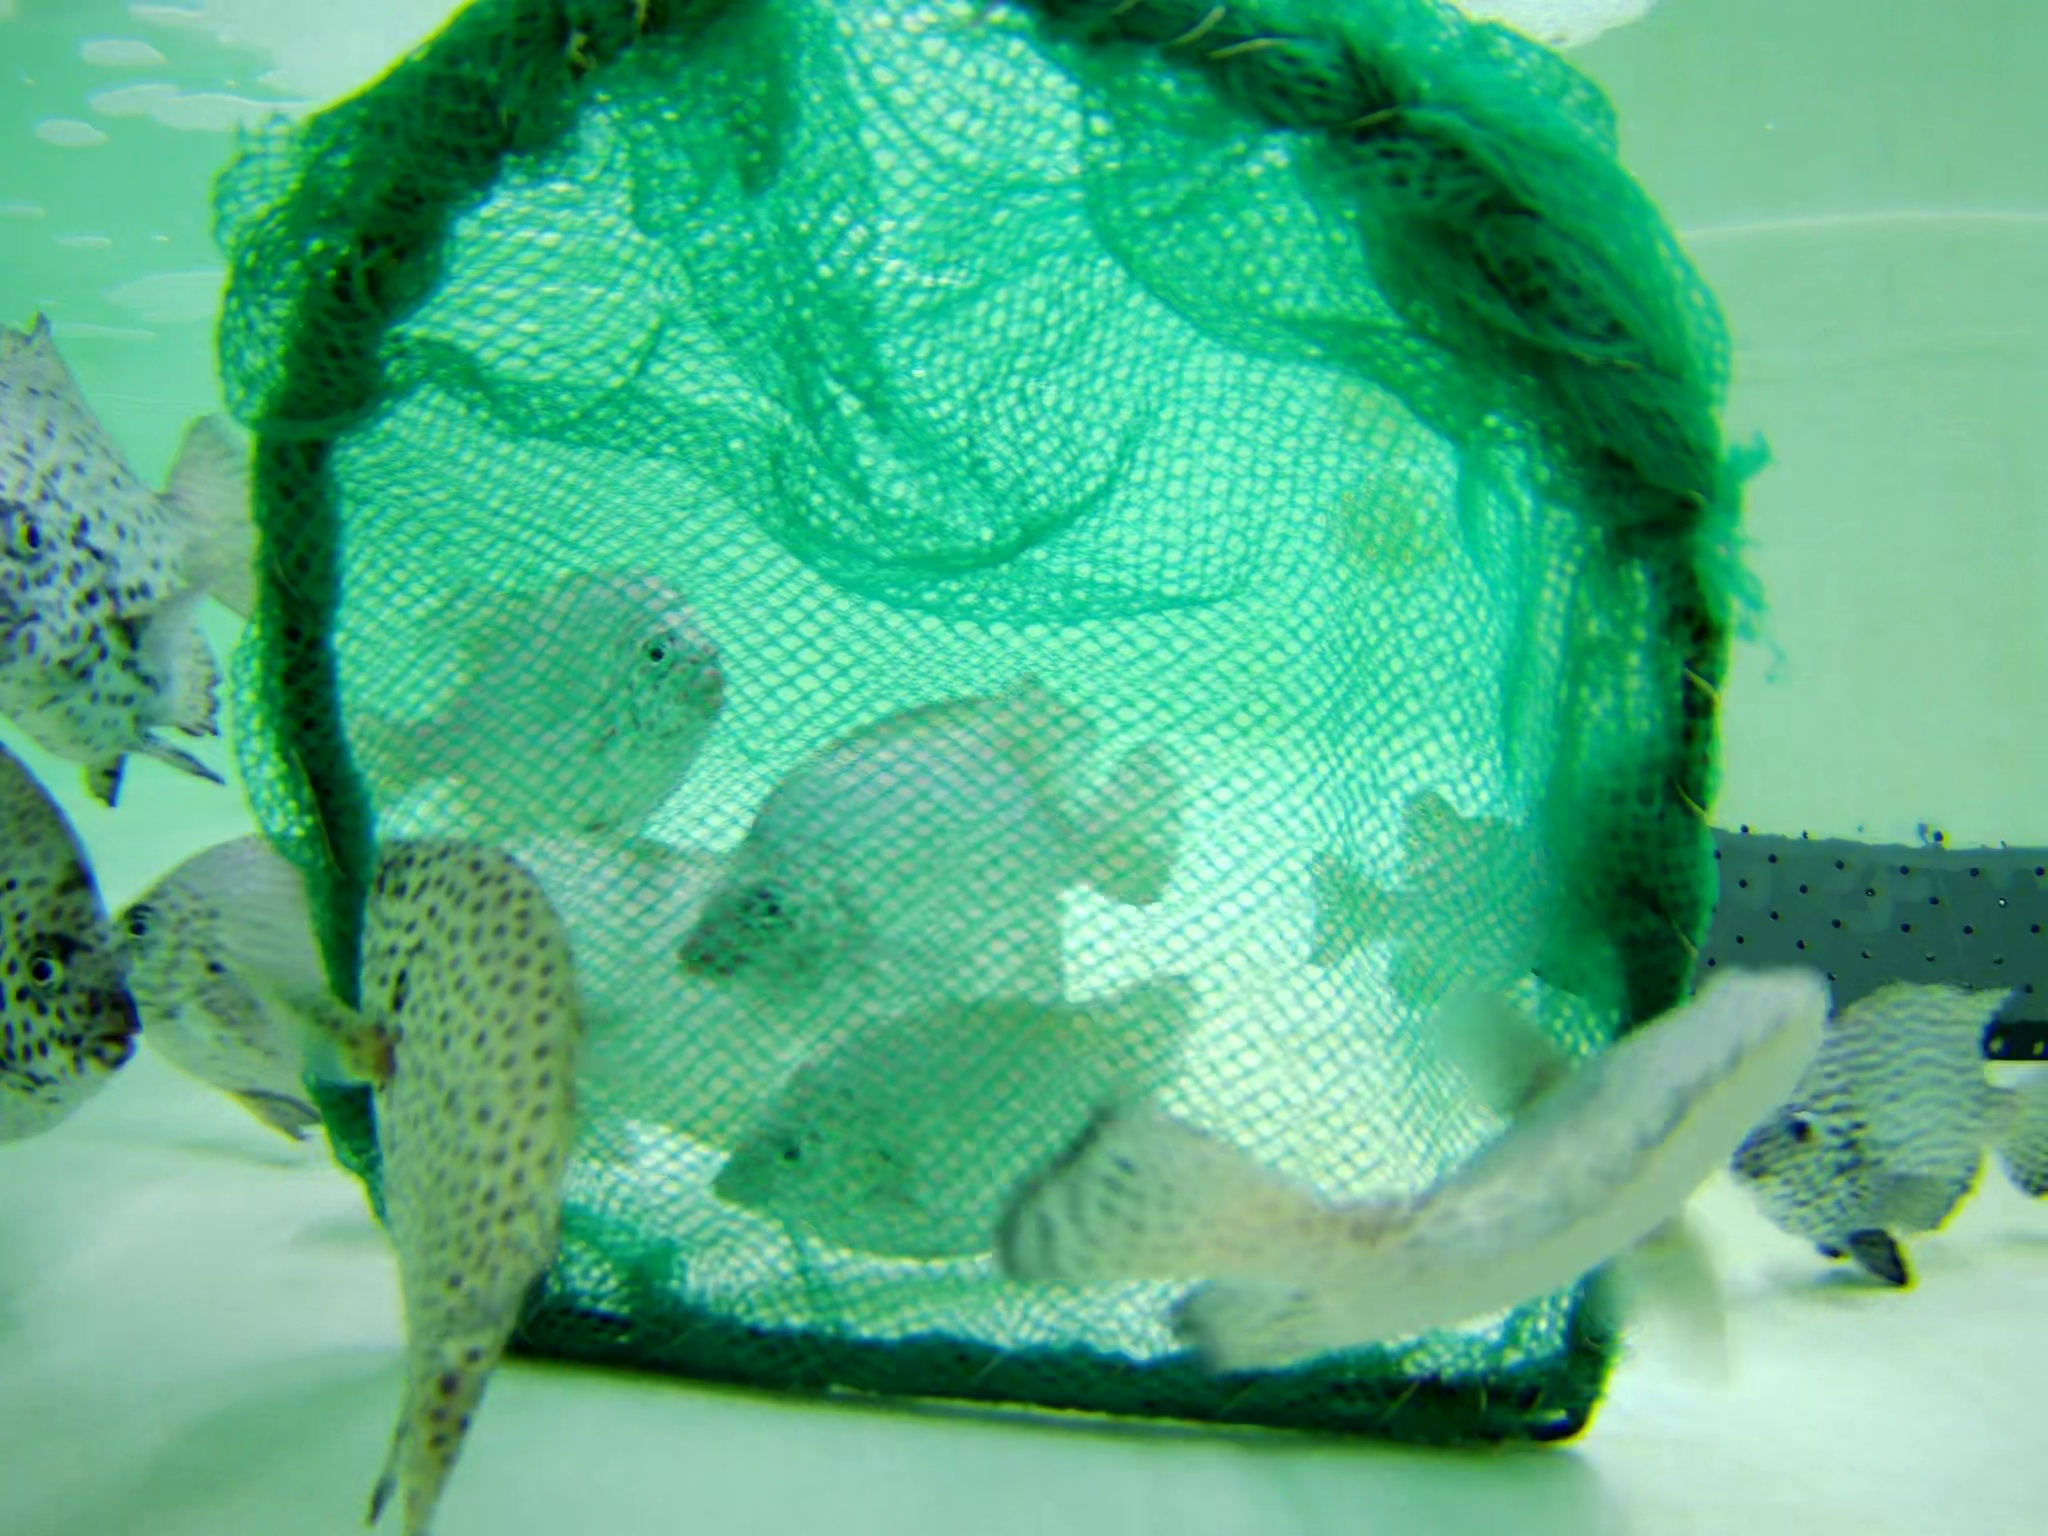fish: (1001, 955, 1832, 1381), (703, 682, 1184, 1044), (342, 823, 584, 1536), (2, 336, 324, 812), (718, 984, 1218, 1250), (1740, 975, 2048, 1289), (342, 568, 716, 823), (110, 836, 393, 1131), (2, 773, 142, 1168), (1309, 791, 1553, 983)
